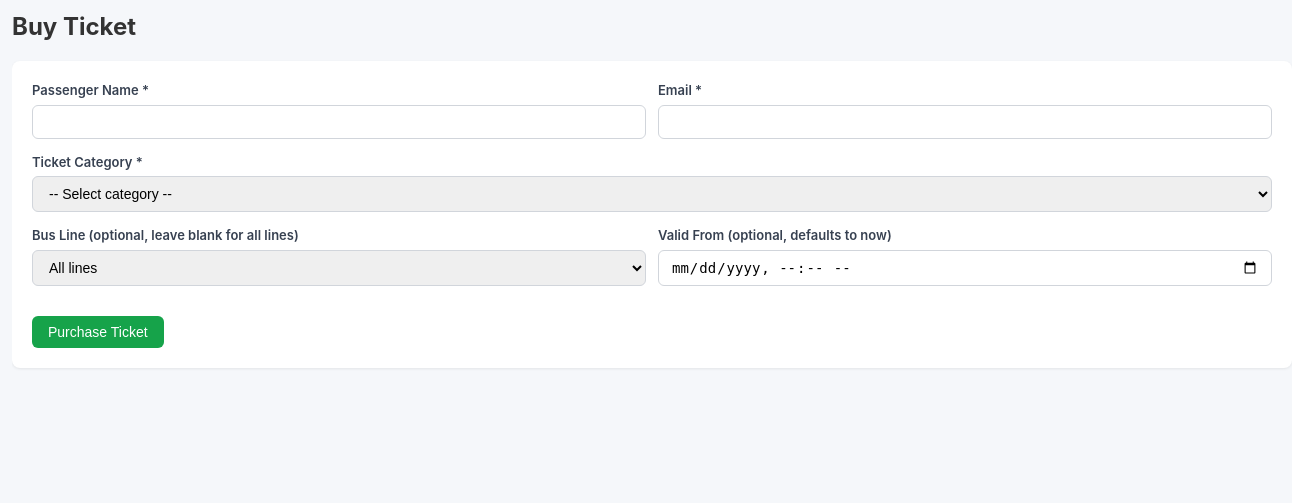
Test: BuyTicket Page › shows category description when category is selected
Select "Monthly Pass — €45.00 (30 days)" in the dropdown below "Ticket Category *" at (652,194), box [32, 176, 1272, 212]
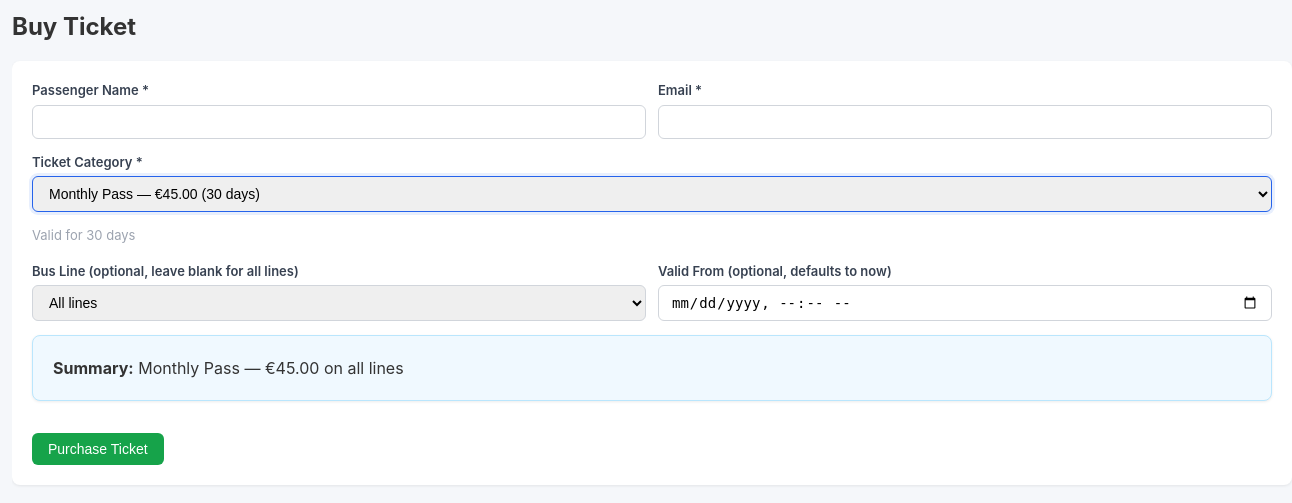
Now the text "Valid for 30 days" is shown, box [32, 227, 135, 243]
